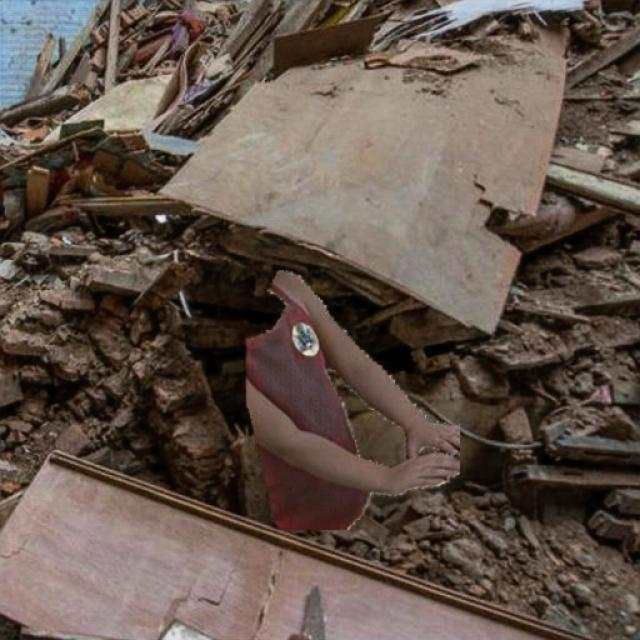Person in Rubble: (246, 270, 459, 529)
